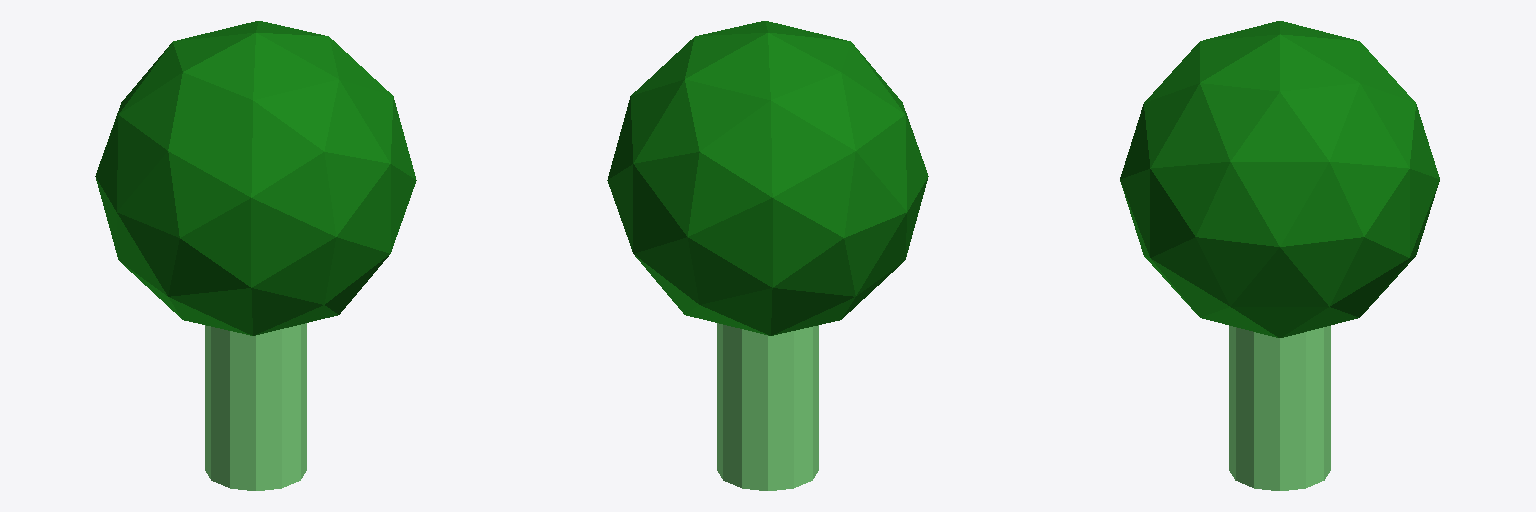
The robot description file, URDF, robot "broccoli":
<?xml version="1.0"?>
<robot name="broccoli"
       xmlns:xi="http://www.w3.org/2001/XInclude">
  <gazebo>
    <static>false</static>
  </gazebo>
  <link name="nil_link">
    <visual>
      <origin xyz="0 0 0" rpy="0 -0 0"/>
      <geometry>
        <mesh filename="model://broccoli/meshes/nil_link_mesh.dae" scale="1 1 1" />
      </geometry>
    </visual>
    <collision>
      <origin xyz="0 0 0" rpy="0 -0 0"/>
      <geometry>
        <mesh filename="model://broccoli/meshes/nil_link_mesh.dae" scale="1 1 1" />
      </geometry>
    </collision>
    <inertial>
      <mass value="0.001" />
      <origin xyz="0 0 0" rpy="0 -0 0"/>
      <inertia ixx="1e-03" ixy="0" ixz="0" iyy="1e-03" iyz="0" izz="1e-03"/>
    </inertial>
  </link>
  <gazebo reference="nil_link">
    <mu1>0.9</mu1>
    <mu2>0.9</mu2>
  </gazebo>
</robot>

--- What the picture shows (computed from the rendered views, not written in the file) ---
Views: 3 orthographic renders of the robot side by side, from view 1: azimuth 30°, elevation 25°; view 2: azimuth 150°, elevation 25°; view 3: azimuth 270°, elevation 25°.
Robot: broccoli — 1 links, 0 joints (none); root link nil_link; default pose: all joints at 0.
Visible links, largest first — view 1: nil_link; view 2: nil_link; view 3: nil_link.
Boxes of the visible links, <box> form: nil_link: <box>95,21,416,490</box>; nil_link: <box>607,21,928,490</box>; nil_link: <box>1120,21,1439,490</box>.
Bounding box of the posed robot: 0.05 × 0.05 × 0.075 m (x, y, z).
Meshes: 1 distinct files referenced, 1 mesh visuals loaded (1 Collada DAE).